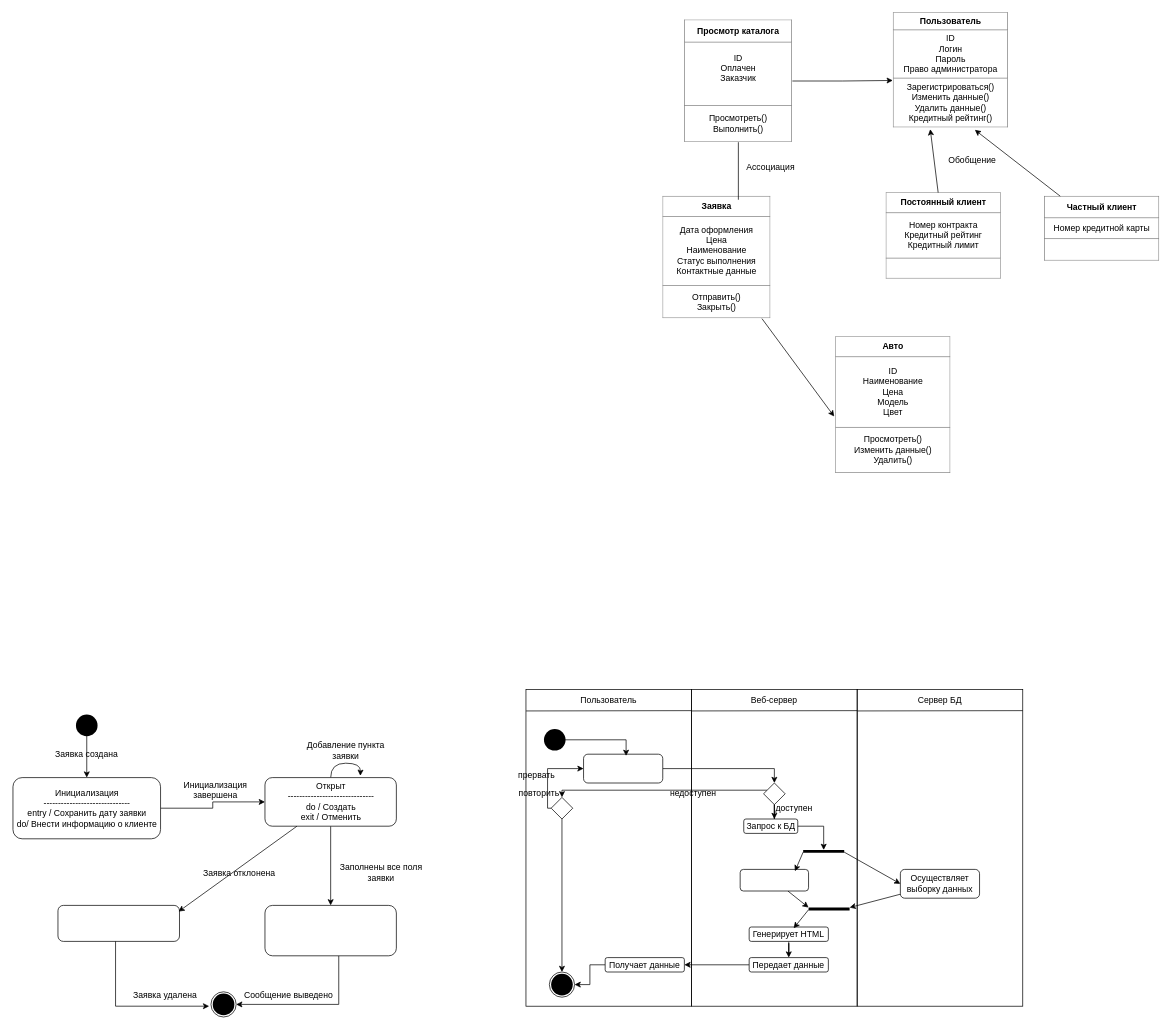
The diagram is 1171 pixels wide and 1030 high, and some of its shapes have lost their labels. The centre of each missing label's shape, as x and y in pixels:
"Закрыт ------------------------------ do/ Вывести сообщение одобрения" goes at (330,930).
"Заявка (обратный звонок)" goes at (623,768).
"Информирует клиента" goes at (774,880).
"Отменен ------------------------------ exit / Сохранить дату отмены" goes at (118,923).
